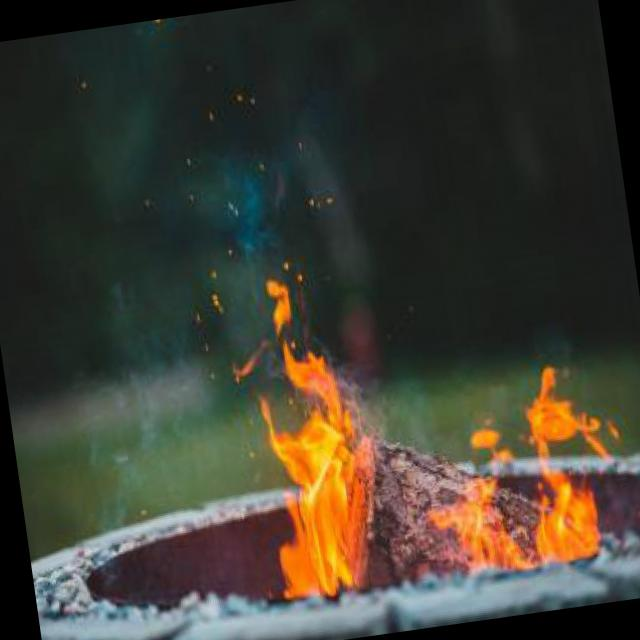fire: (213, 251, 394, 604), (415, 337, 628, 586)
